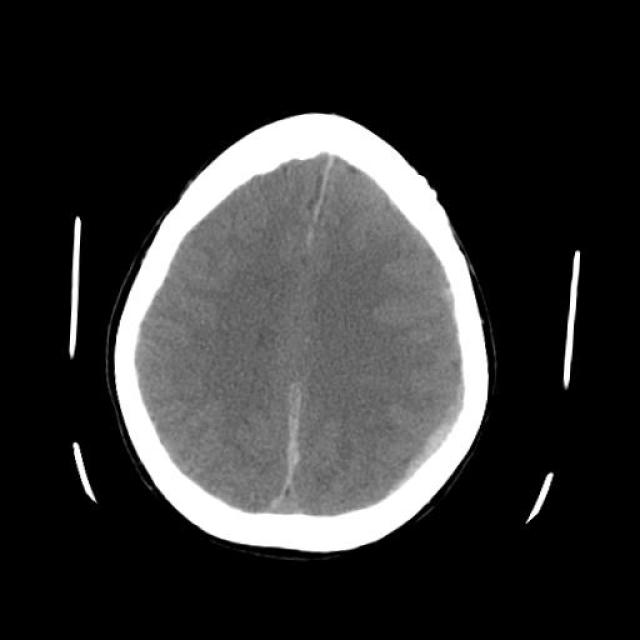Subdural: (243, 371, 341, 549), (374, 383, 504, 508)
